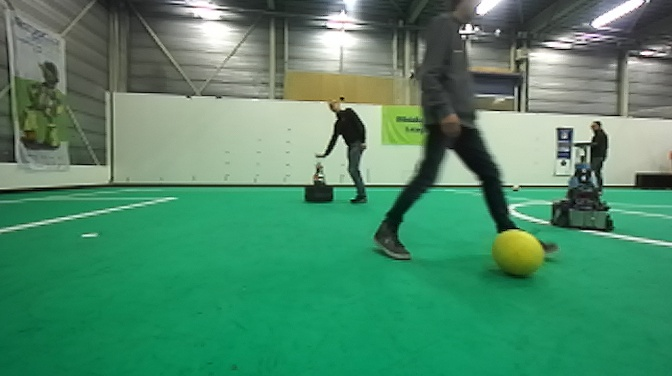ball: (488, 227, 547, 285), (509, 182, 521, 193)
human: (367, 1, 557, 263), (315, 97, 372, 208), (582, 118, 610, 191)
robot: (549, 139, 616, 232), (301, 152, 337, 207)
